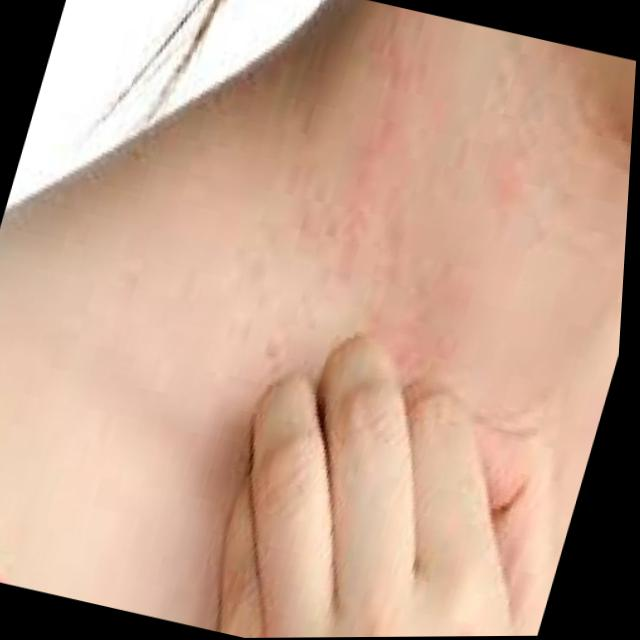Eczema: (305, 59, 584, 354)
